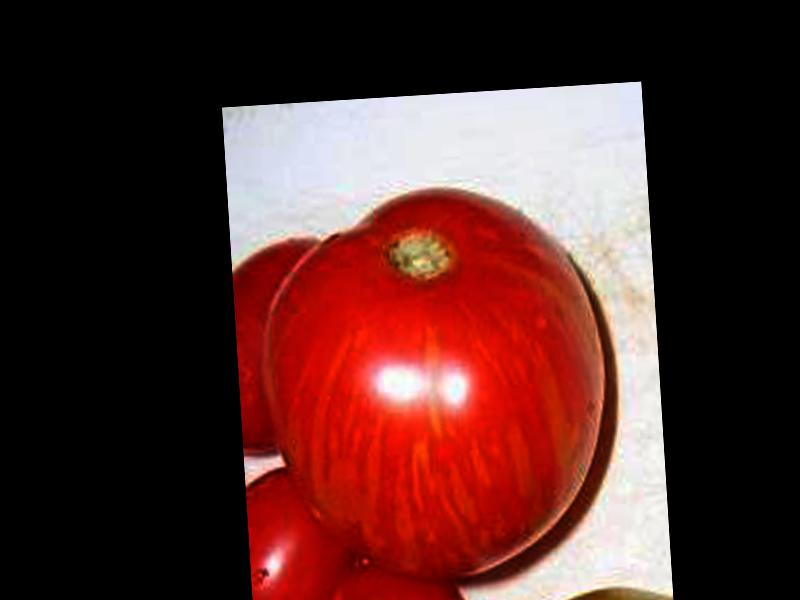Tomato: (250, 174, 617, 591)
